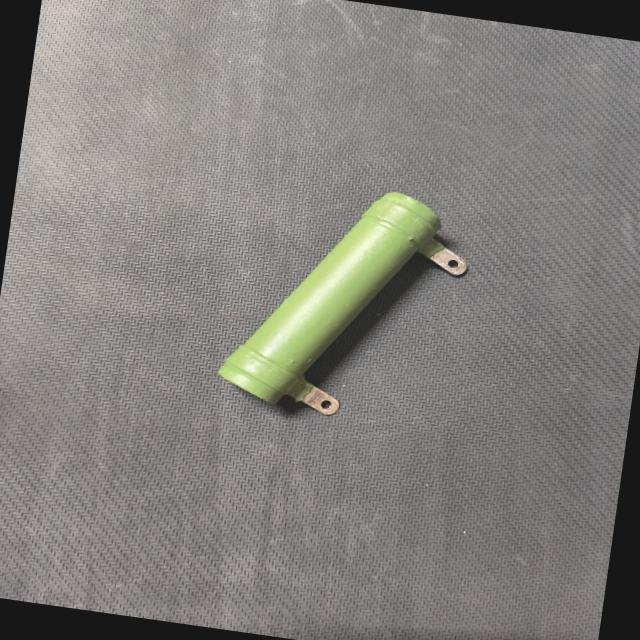resistor: (206, 158, 492, 448)
